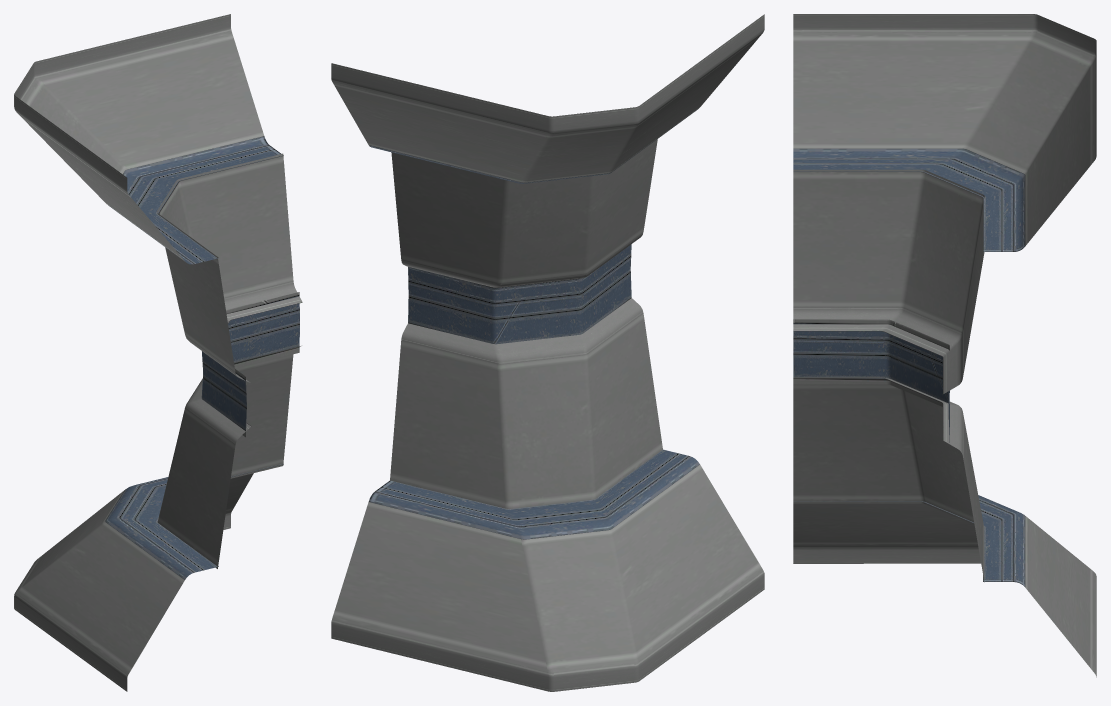
Rendered from Spctr_WallCap_01.FBX.
The picture shows the model from 3 angles, left to right: view 1: azimuth 30°, elevation 25°; view 2: azimuth 150°, elevation 25°; view 3: azimuth 270°, elevation 25°; orthographic projection. The views are drawn at different scales.
Parts seen in each view (by area): view 1: Spctr_WallCap_01; view 2: Spctr_WallCap_01; view 3: Spctr_WallCap_01.
Boxes of the visible parts, x1=… form: Spctr_WallCap_01: x1=14, y1=14, x2=302, y2=691; Spctr_WallCap_01: x1=331, y1=14, x2=764, y2=691; Spctr_WallCap_01: x1=793, y1=14, x2=1096, y2=677.
Size of the model in its own units: 2 by 4 by 2.
